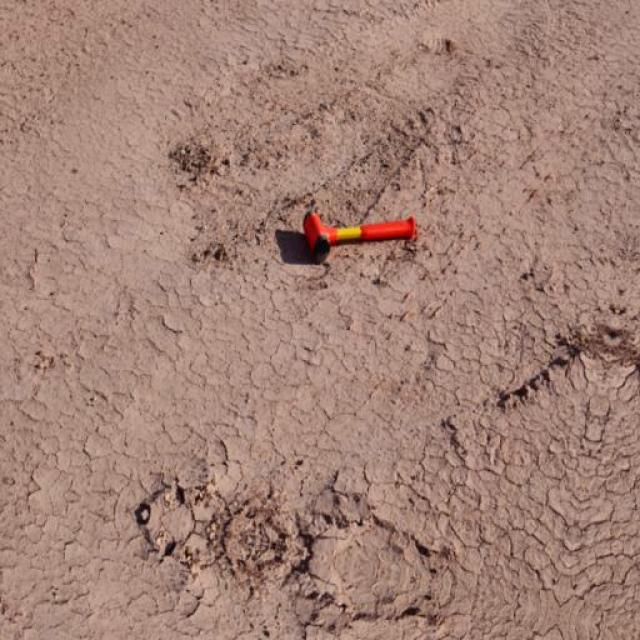mallet: (302, 208, 420, 262)
